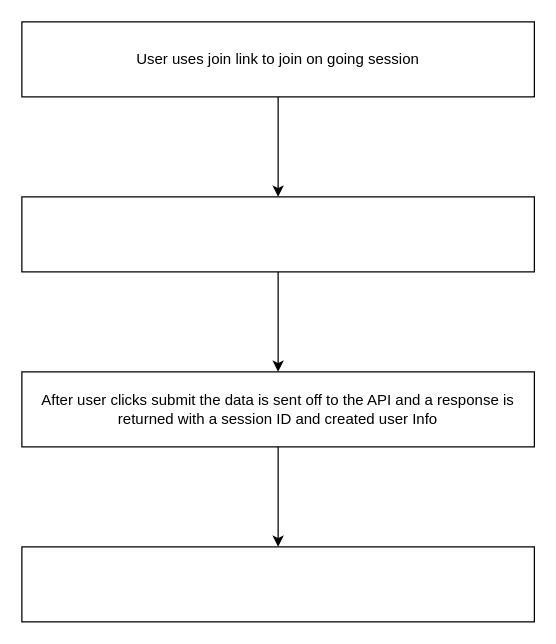
The diagram is 556 pixels wide and 644 high, and some of its shapes have lost their labels. The shapes that lost their labels are listed below. From the top down, each one's centre as x and y in pixels, then its label:
At pixel 277 234: "User is asked to type in there username".
At pixel 277 584: "Session ID and user ID is set in local storage and user is navigated to session".
